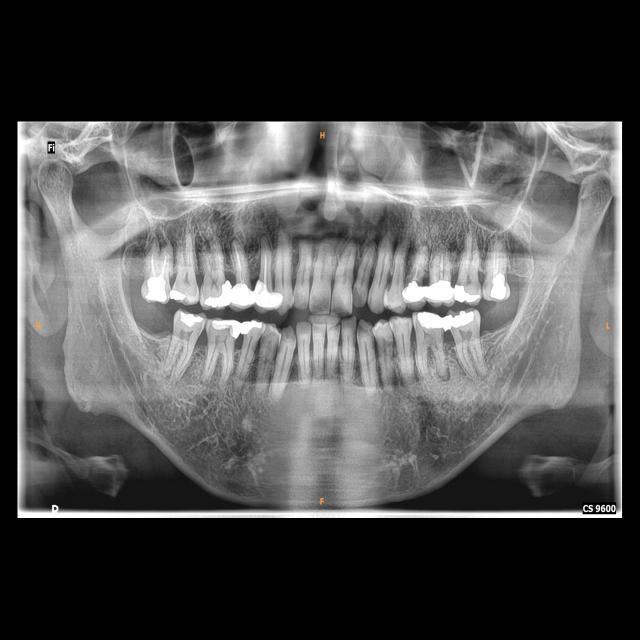dentin-curugu: (350, 284, 368, 310)
dolgu: (139, 276, 172, 306), (484, 269, 511, 305), (414, 309, 446, 339), (446, 308, 482, 333), (210, 316, 242, 343), (202, 278, 230, 308), (450, 278, 480, 304), (171, 311, 205, 331), (171, 281, 197, 303), (241, 316, 263, 339)
kanal-tedavisi: (148, 248, 169, 277), (257, 246, 271, 284), (488, 241, 502, 269), (233, 240, 242, 283), (412, 255, 422, 282)
kaplama: (426, 276, 455, 304), (232, 280, 254, 308), (258, 282, 282, 307), (405, 281, 426, 309)
kok-enfeksiyonu: (428, 358, 463, 390)
